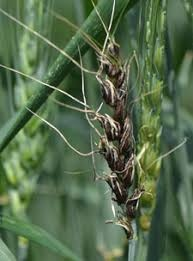Wheat Loose Smut: (87, 41, 144, 224)
